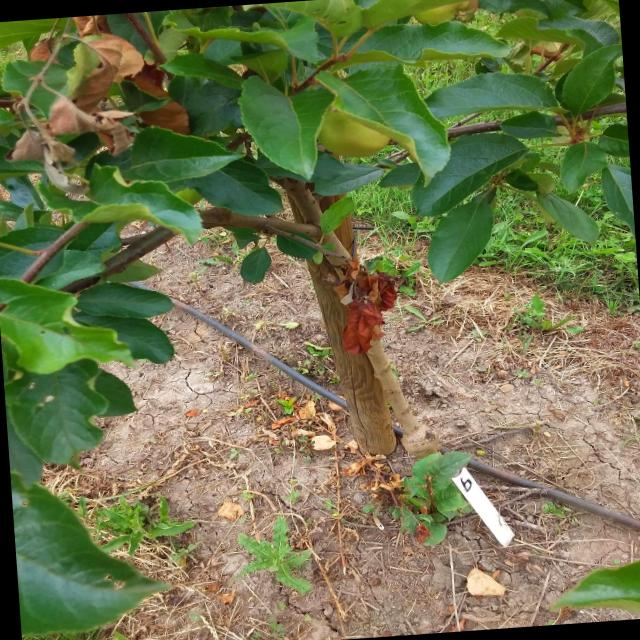-FireBlight-: (14, 18, 168, 181), (316, 254, 412, 352)
